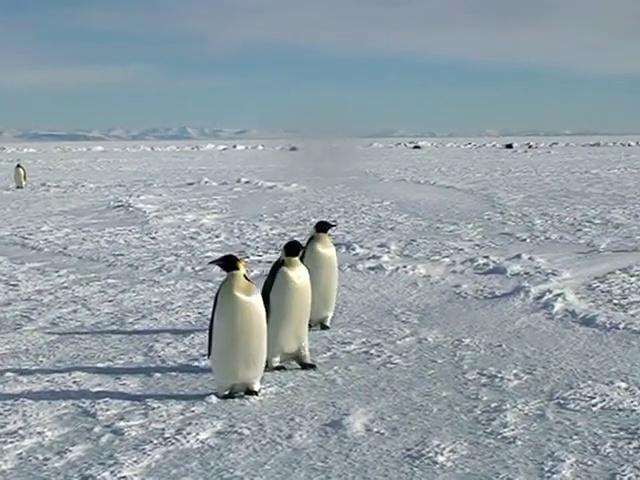animal: (302, 222, 339, 330)
